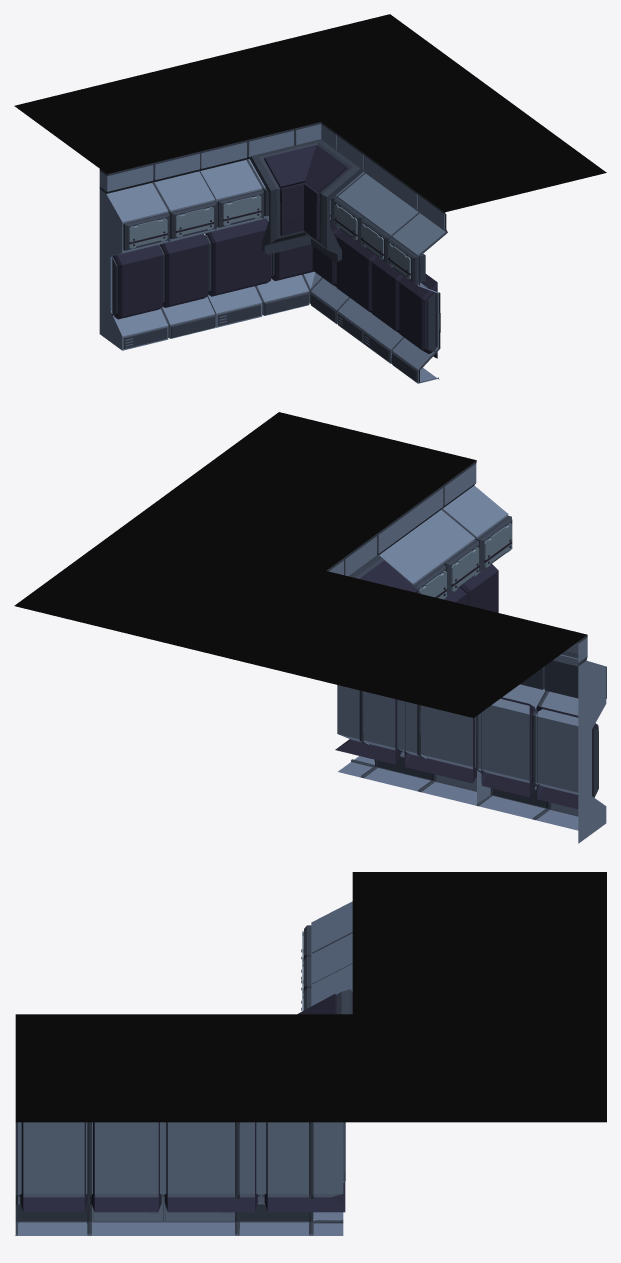
Rendered from WallAngleA.fbx.
3 views of the same model, one above another, from view 1: azimuth 30°, elevation 25°; view 2: azimuth 150°, elevation 25°; view 3: azimuth 270°, elevation 25° (orthographic). The views are drawn at different scales.
Parts seen in each view (by area): view 1: WallAngleA; view 2: WallAngleA; view 3: WallAngleA.
Part boxes in pixels (x1,y1,x2,y2): WallAngleA: (14, 14, 606, 383); WallAngleA: (14, 412, 606, 843); WallAngleA: (15, 872, 606, 1235).
Bounding box in the file's own units: 801 × 337 × 802.
